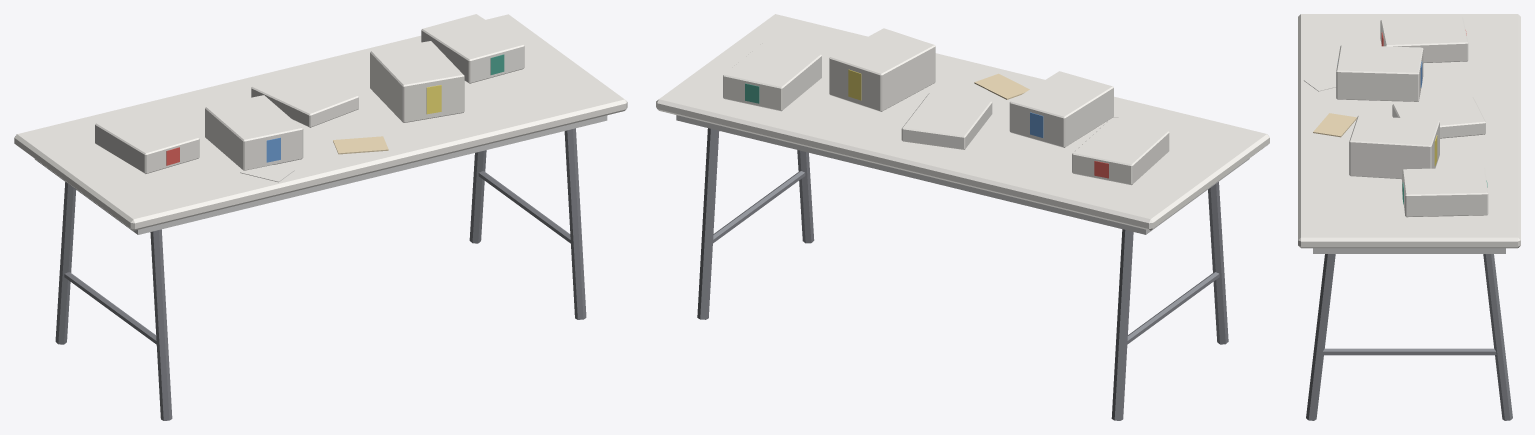
The model's file is prop_count_table_01.glb.
The picture shows the model from 3 angles, left to right: view 1: azimuth 30°, elevation 25°; view 2: azimuth 150°, elevation 25°; view 3: azimuth 270°, elevation 25°; orthographic projection. The views are drawn at different scales.
Visible parts, largest first — view 1: prop_count_table_01_body; view 2: prop_count_table_01_body; view 3: prop_count_table_01_body.
Boxes of the visible parts, bbox=[...] form: prop_count_table_01_body: bbox=[14, 14, 627, 420]; prop_count_table_01_body: bbox=[656, 14, 1269, 420]; prop_count_table_01_body: bbox=[1298, 14, 1520, 420].
Bounding box in the file's own units: 1.8 × 0.872 × 0.75.
